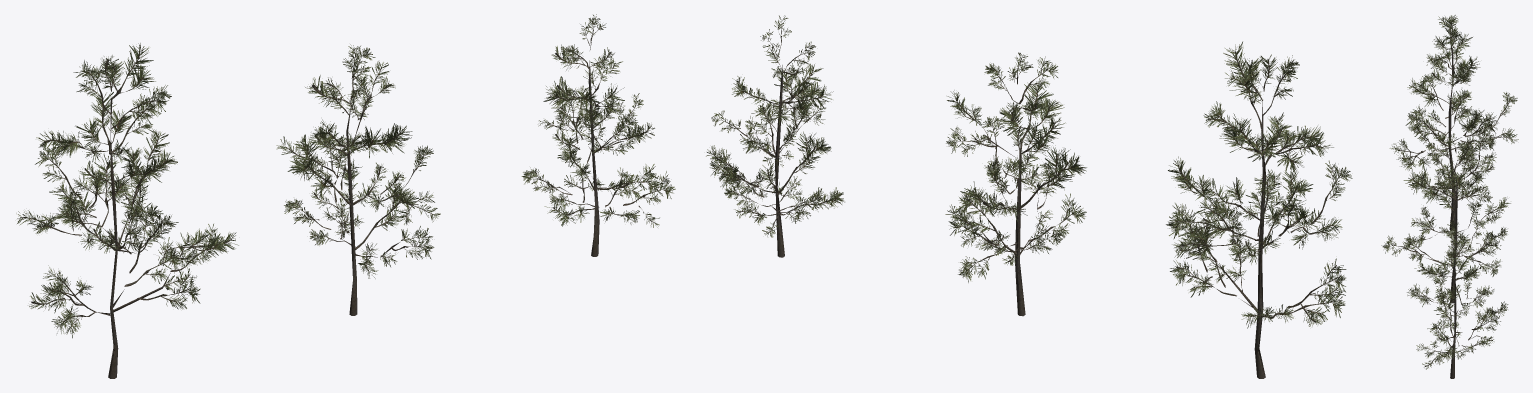
File: pine_sapling_small.glb
3 views of the same model, side by side, from view 1: azimuth 30°, elevation 25°; view 2: azimuth 150°, elevation 25°; view 3: azimuth 270°, elevation 25° (orthographic). The views are drawn at different scales.
Visible parts, largest first — view 1: pine_sapling_small_b; view 2: pine_sapling_small_b; view 3: pine_sapling_small_b.
Boxes of the visible parts, bbox=[...] form: pine_sapling_small_b: bbox=[16, 14, 675, 378]; pine_sapling_small_b: bbox=[706, 15, 1352, 378]; pine_sapling_small_b: bbox=[1381, 15, 1518, 378].
Size of the model in its own units: 2.64 by 1.3 by 0.7703.
2 materials, 2 textured.
